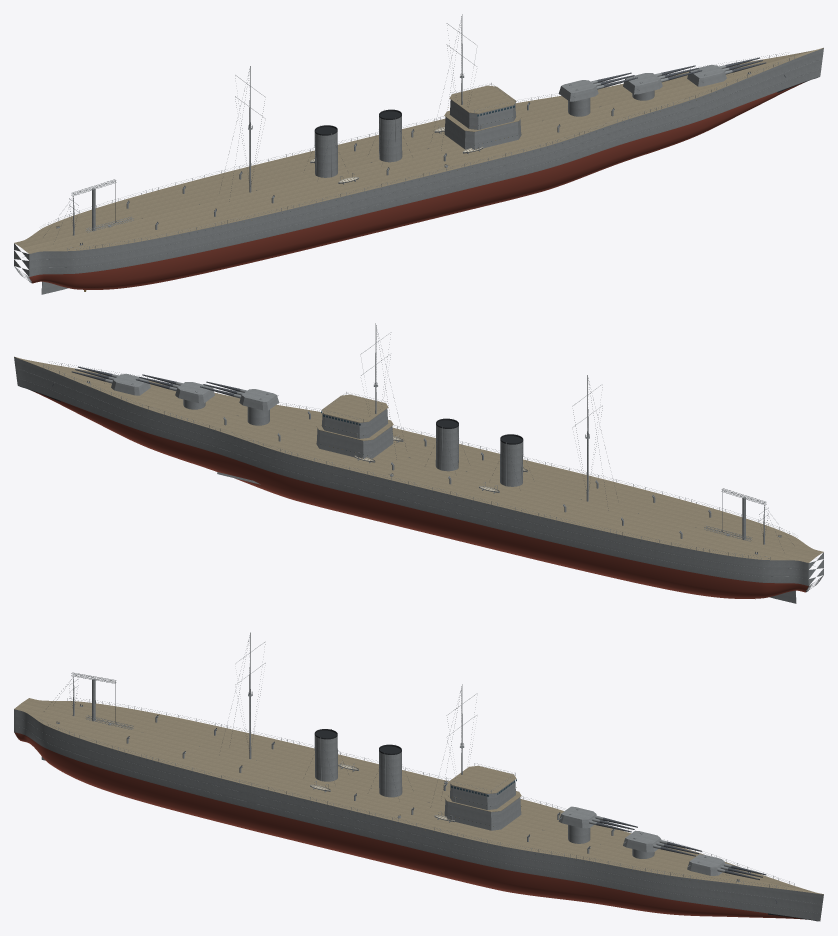
File: insuperable_bc27.glb
3 renders of one model, top to bottom at view 1: azimuth 30°, elevation 25°; view 2: azimuth 150°, elevation 25°; view 3: azimuth 330°, elevation 25°, orthographic.
Visible parts, largest first — view 1: Insuperable class; view 2: Insuperable class; view 3: Insuperable class.
Boxes of the visible parts, x1,y1,x2,y2 form: Insuperable class: (14, 14, 823, 294); Insuperable class: (14, 323, 823, 603); Insuperable class: (14, 632, 823, 921).
Size of the model in its own units: 275 by 59.08 by 32.39.
Materials: 8 (2 with a texture image).
